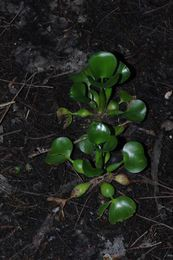water_hyacinth: (45, 45, 148, 228)
